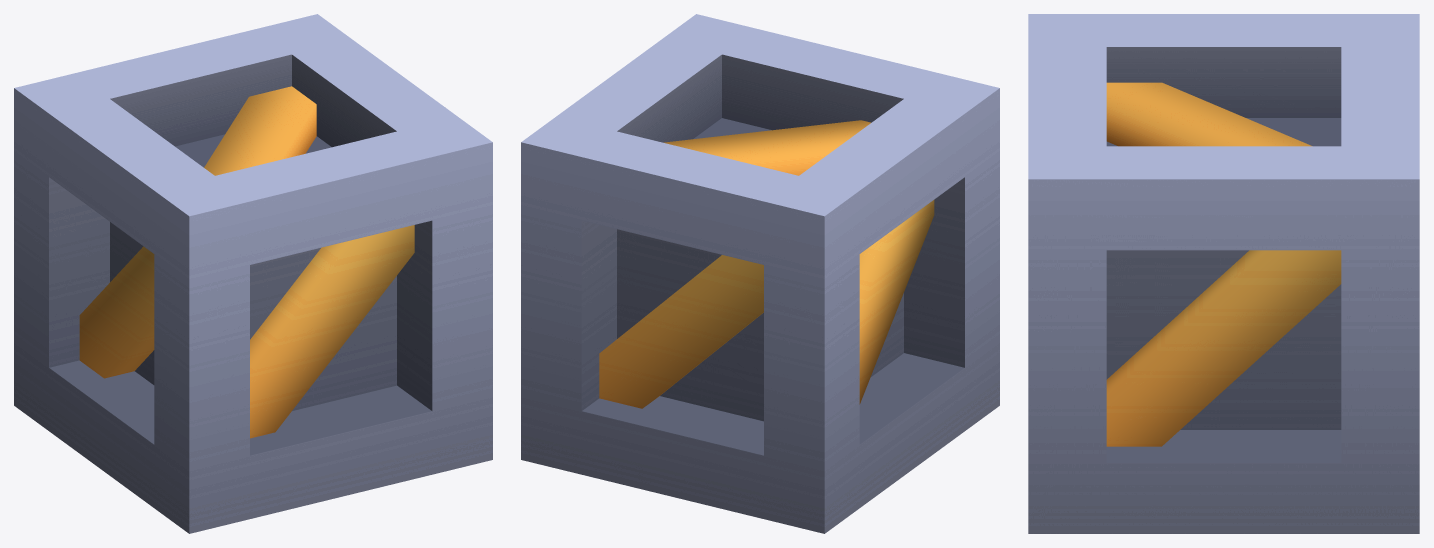
File: crate.glb
3 views of the same model, side by side, from view 1: azimuth 30°, elevation 25°; view 2: azimuth 150°, elevation 25°; view 3: azimuth 270°, elevation 25° (orthographic). The views are drawn at different scales.
Parts seen in each view (by area): view 1: crate-col; view 2: crate-col; view 3: crate-col.
Boxes of the visible parts, bbox=[...] form: crate-col: bbox=[14, 14, 492, 533]; crate-col: bbox=[521, 14, 999, 533]; crate-col: bbox=[1028, 14, 1419, 533].
Bounding box in the file's own units: 0.5 × 0.5 × 0.5.
Materials: 1 (1 with a texture image).
